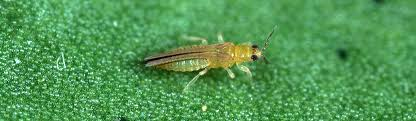Thrips: (131, 24, 288, 88)
